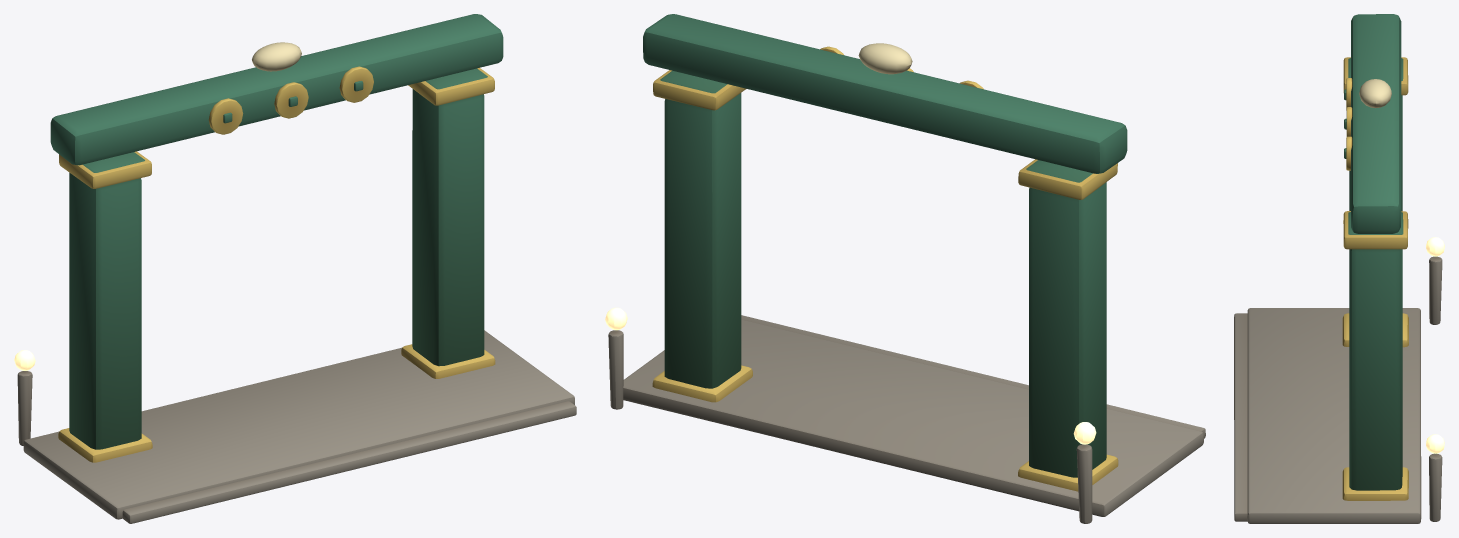
The picture shows the model from 3 angles, left to right: view 1: azimuth 30°, elevation 25°; view 2: azimuth 150°, elevation 25°; view 3: azimuth 270°, elevation 25°; orthographic projection. The views are drawn at different scales.
Parts seen in each view (by area): view 1: gate_0e2b5990; view 2: gate_0e2b5990; view 3: gate_0e2b5990.
Boxes of the visible parts, bbox=[...] form: gate_0e2b5990: bbox=[14, 14, 576, 523]; gate_0e2b5990: bbox=[605, 14, 1205, 523]; gate_0e2b5990: bbox=[1234, 14, 1444, 523].
Size of the model in its own units: 5.9 by 4.53 by 2.55.
